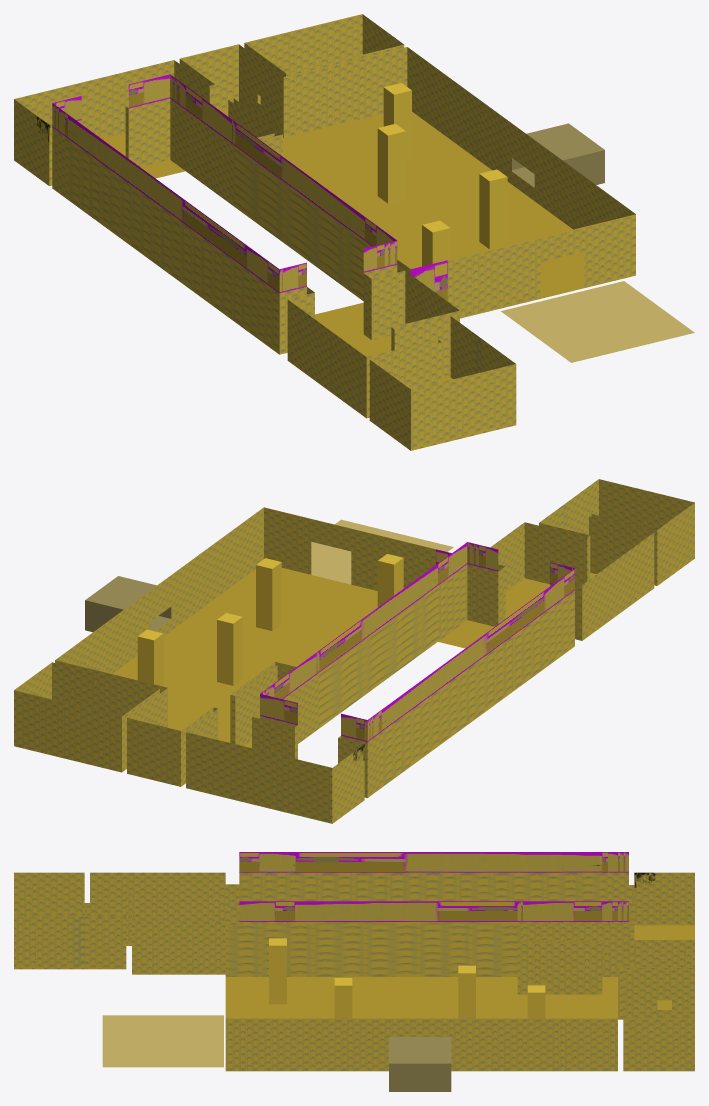
File: map_test.fbx
3 views of the same model, one above another, from view 1: azimuth 30°, elevation 25°; view 2: azimuth 150°, elevation 25°; view 3: azimuth 270°, elevation 25° (orthographic). The views are drawn at different scales.
Parts seen in each view (by area): view 1: polySurface3; view 2: polySurface3; view 3: polySurface3.
Part boxes in pixels (left/top/right/bottom): polySurface3: left=14, top=14, right=694, bottom=450; polySurface3: left=14, top=479, right=694, bottom=823; polySurface3: left=14, top=852, right=694, bottom=1091.
Bounding box in the file's own units: 409 × 86.47 × 681.
1 material, 1 textured.
